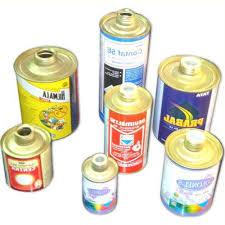Aerosols: (3, 5, 225, 225)
